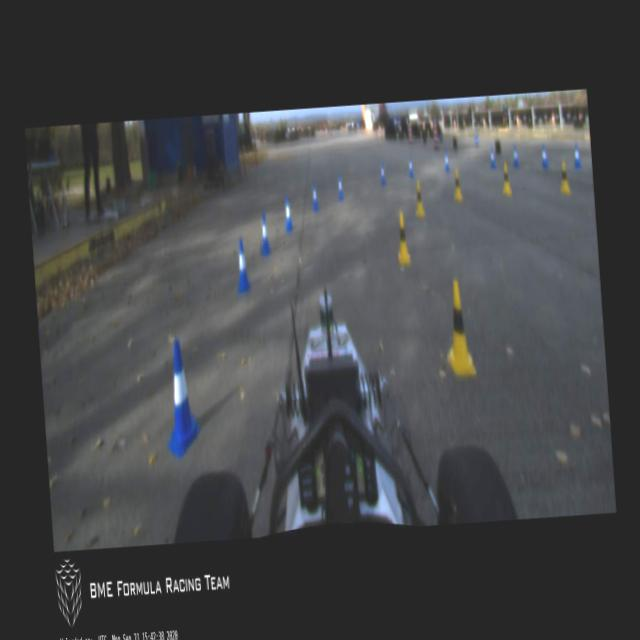blue_cone: (159, 335, 202, 459), (232, 236, 250, 292), (258, 210, 272, 254), (280, 196, 294, 233), (308, 180, 318, 209), (572, 142, 580, 170), (336, 172, 344, 200), (540, 143, 548, 168), (379, 160, 386, 186), (442, 148, 450, 170), (488, 146, 496, 168), (511, 144, 519, 166), (408, 156, 413, 178), (474, 133, 479, 148)
yellow_cone: (442, 280, 474, 378), (393, 212, 411, 265), (412, 178, 426, 217), (558, 159, 570, 194), (500, 159, 511, 194), (452, 168, 462, 203)
